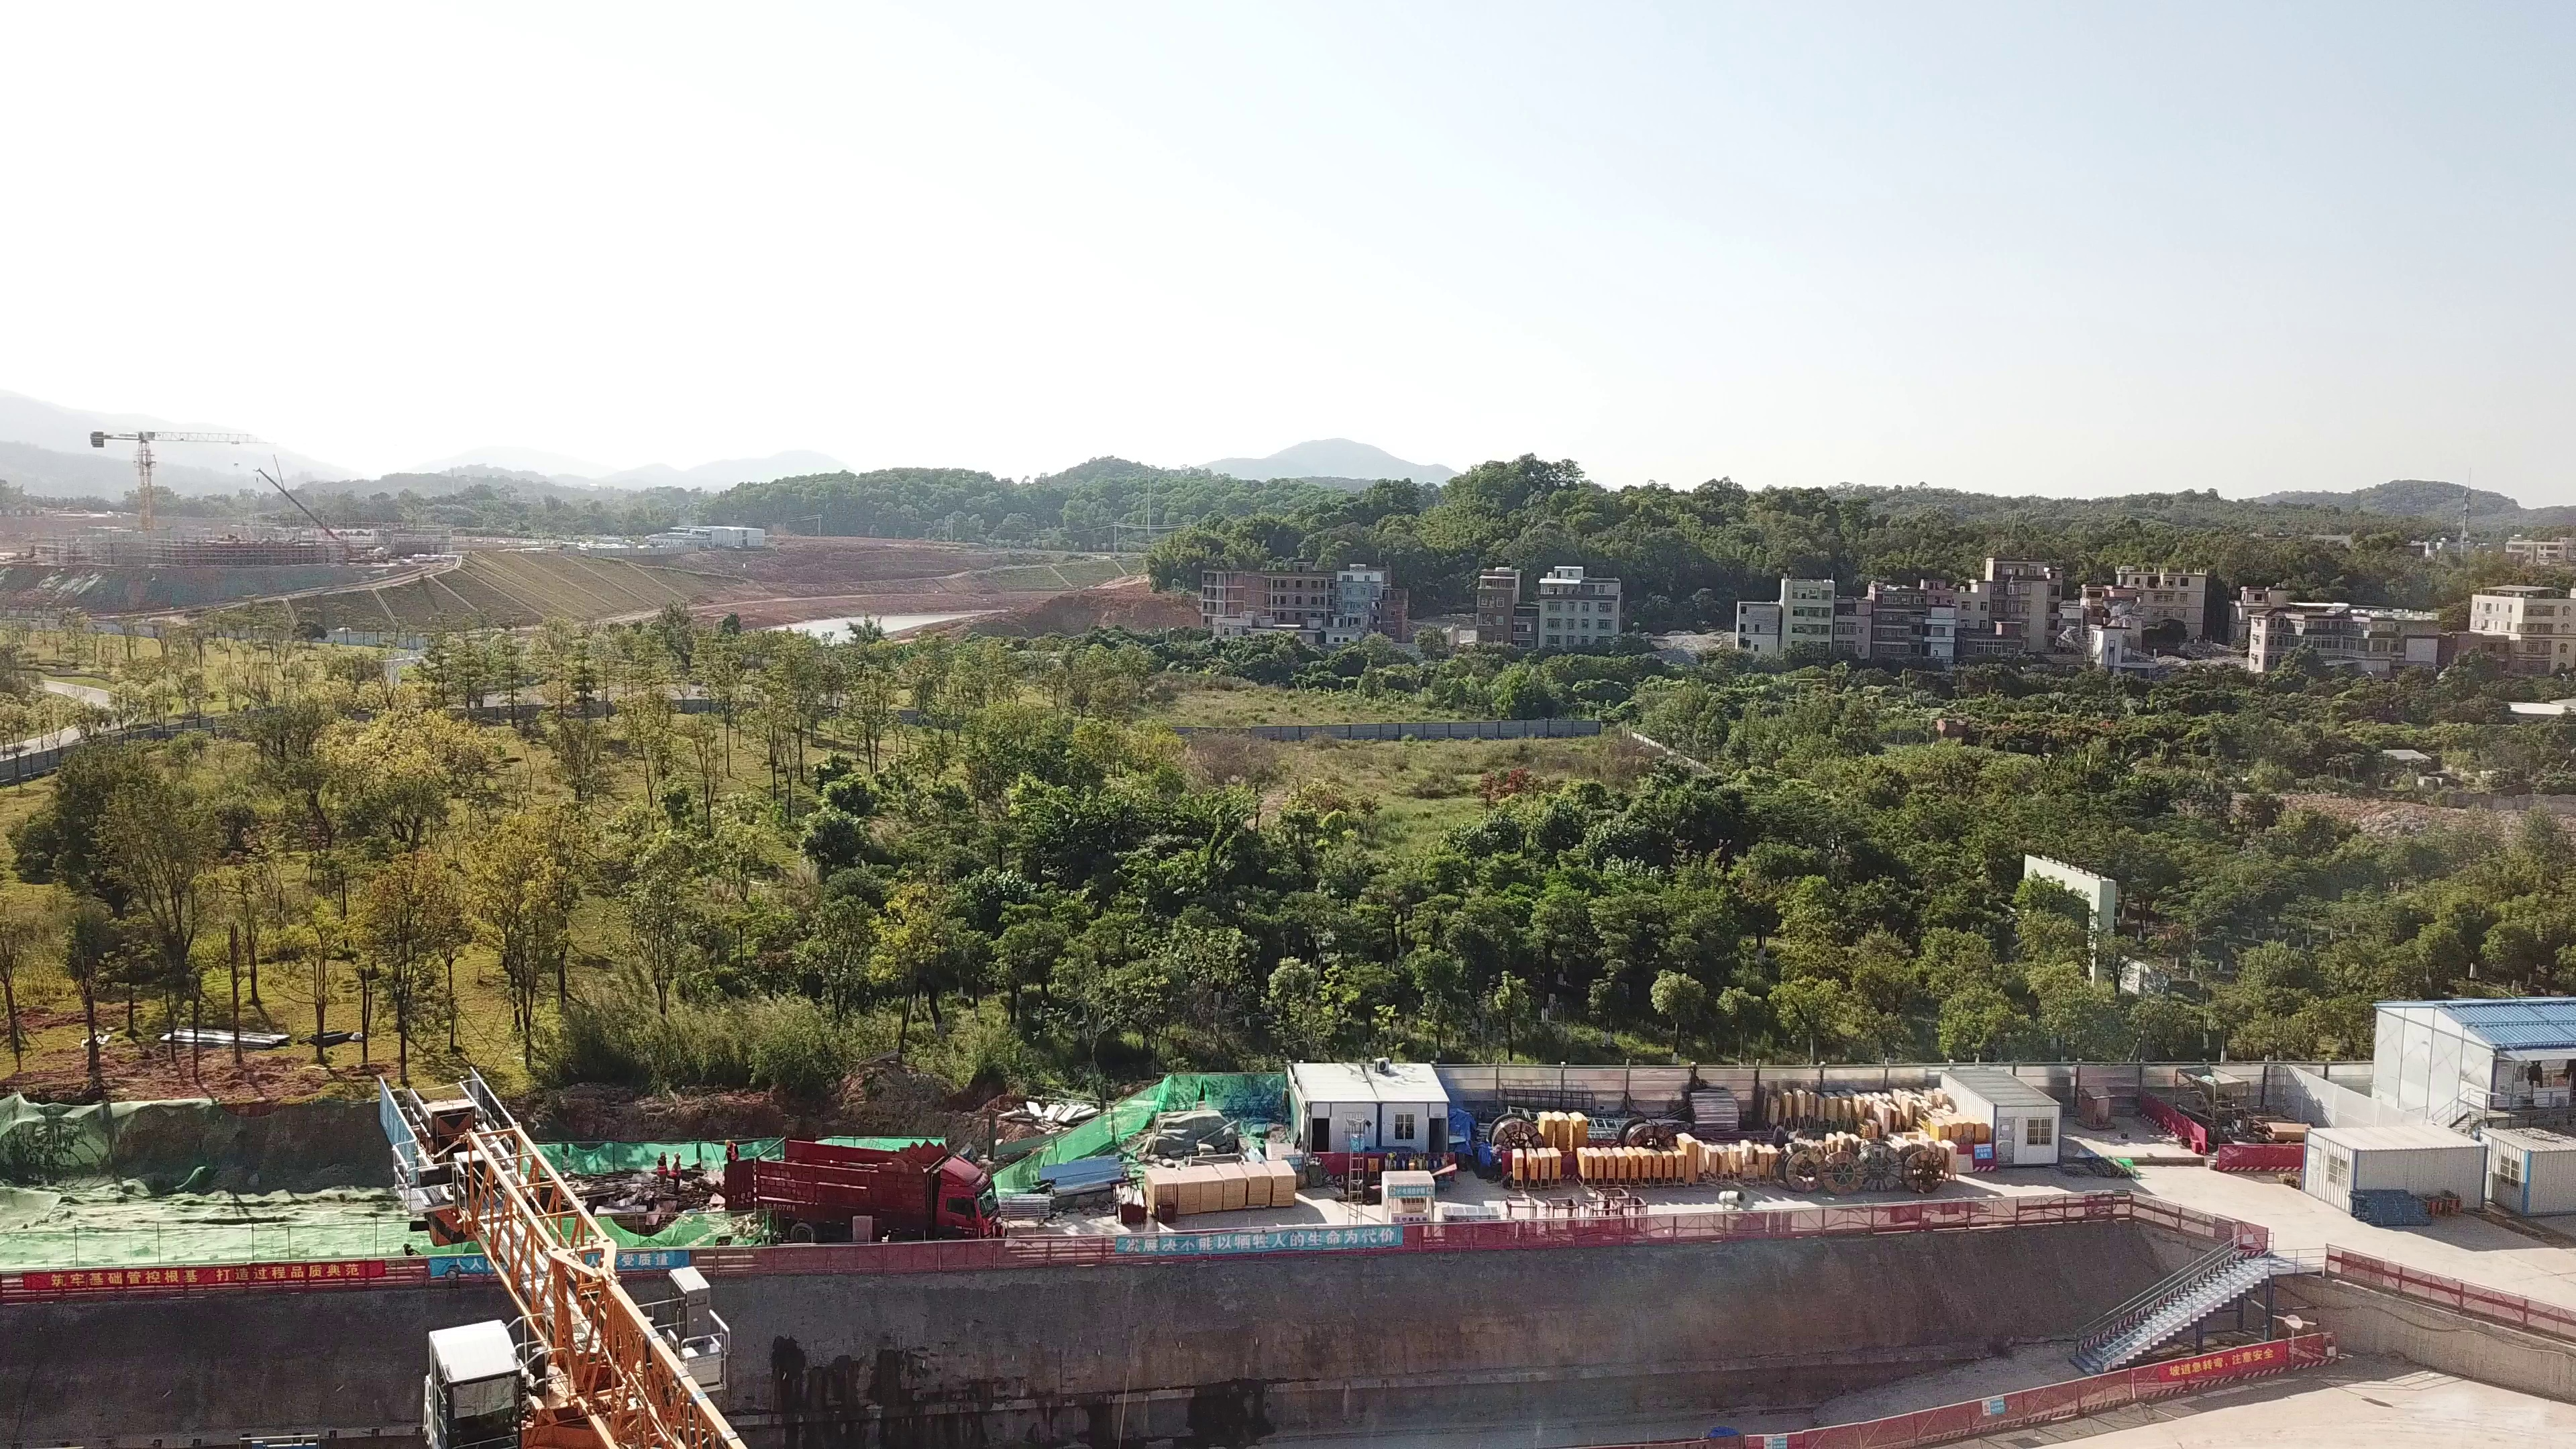fence: (1495, 1054, 2182, 1121), (1448, 1204, 2147, 1246), (1794, 1393, 2100, 1436)
helmet: (722, 1138, 731, 1148), (659, 1150, 667, 1157), (672, 1150, 680, 1157)
person: (669, 1145, 684, 1193), (721, 1138, 740, 1164), (654, 1149, 669, 1180)
scaffold: (1005, 1194, 1063, 1221), (1110, 1189, 1147, 1229)
slogan: (17, 1263, 394, 1295), (1119, 1227, 1405, 1263), (425, 1242, 680, 1280), (2163, 1348, 2283, 1371)
vest: (670, 1161, 682, 1179), (655, 1159, 667, 1172), (727, 1147, 736, 1160)
wood: (1148, 1164, 1297, 1205)
